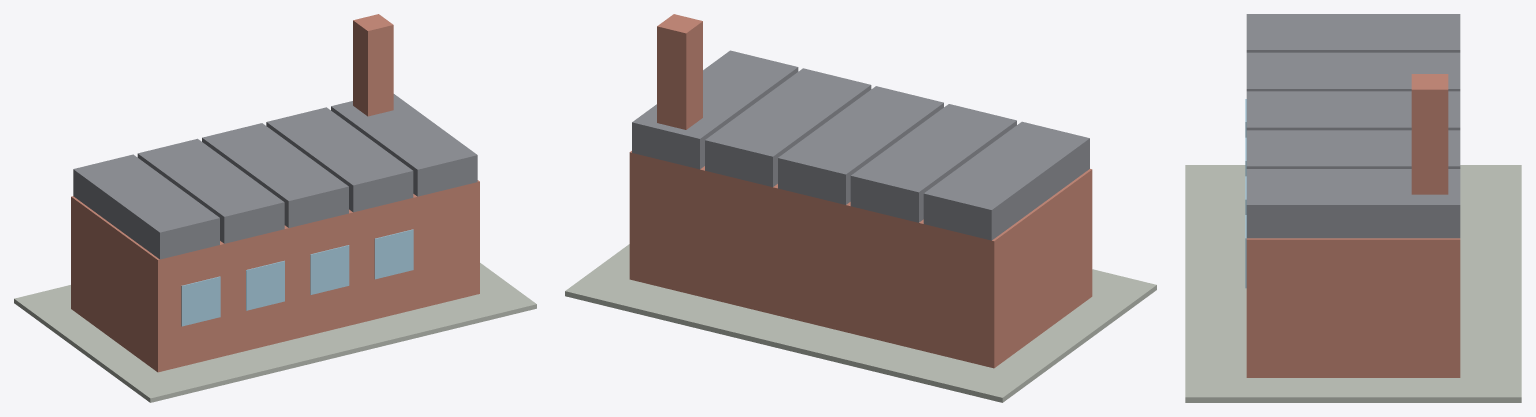
File: factory_hall.glb
The picture shows the model from 3 angles, left to right: view 1: azimuth 30°, elevation 25°; view 2: azimuth 150°, elevation 25°; view 3: azimuth 270°, elevation 25°; orthographic projection. The views are drawn at different scales.
Bounding box in the file's own units: 1.8 × 1.02 × 1.1.
